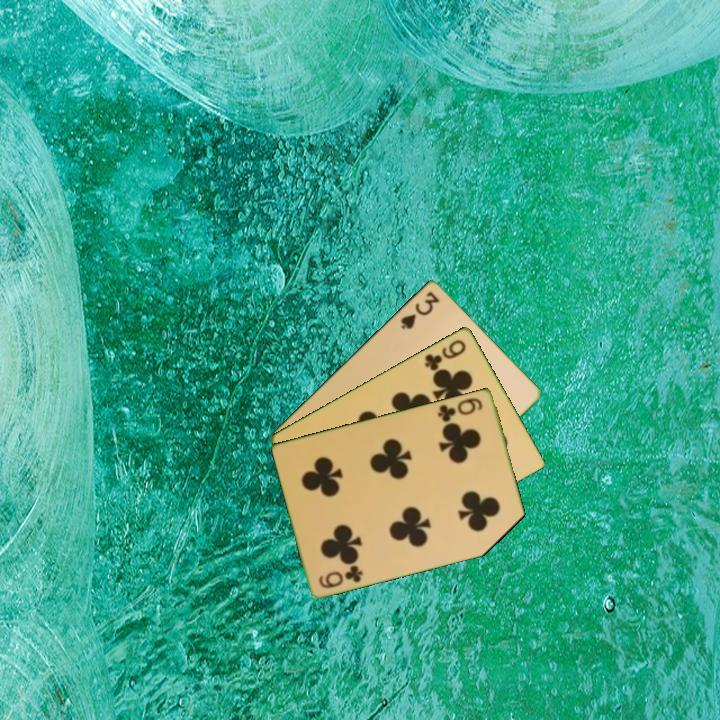3s: (397, 287, 442, 332)
6c: (434, 394, 486, 425), (315, 561, 366, 591)
9c: (421, 336, 469, 373)
